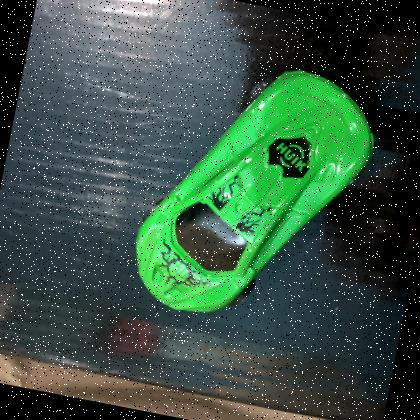Car: (124, 40, 390, 342)
